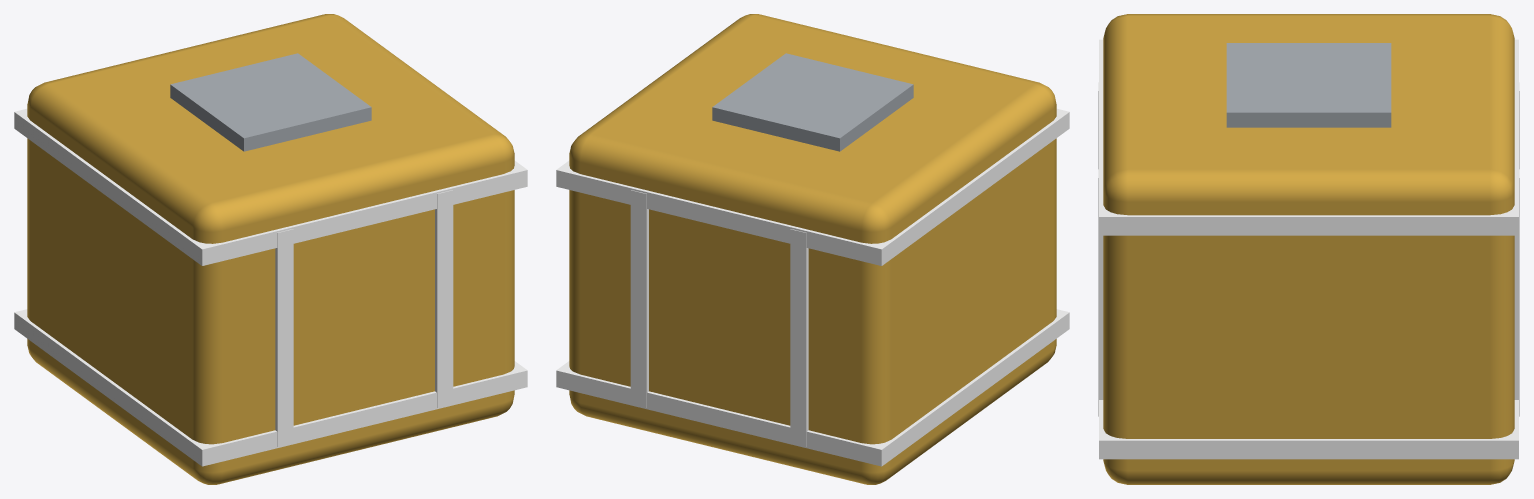
Rendered from GOLD_CRATE.glb.
The picture shows the model from 3 angles, left to right: view 1: azimuth 30°, elevation 25°; view 2: azimuth 150°, elevation 25°; view 3: azimuth 270°, elevation 25°; orthographic projection. The views are drawn at different scales.
Visible parts, largest first — view 1: paint_0, lamps_2, steel_1; view 2: paint_0, lamps_2, steel_1; view 3: paint_0, lamps_2, steel_1.
Boxes of the visible parts, x1,y1,x2,y2 form: paint_0: (27,14,514,484); lamps_2: (14,108,527,466); steel_1: (170,53,371,151); paint_0: (569,14,1056,484); lamps_2: (556,108,1069,466); steel_1: (712,53,913,151); paint_0: (1103,14,1514,484); lamps_2: (1098,39,1519,459); steel_1: (1226,43,1391,127).
Size of the model in its own units: 0.51 by 0.44 by 0.512.
